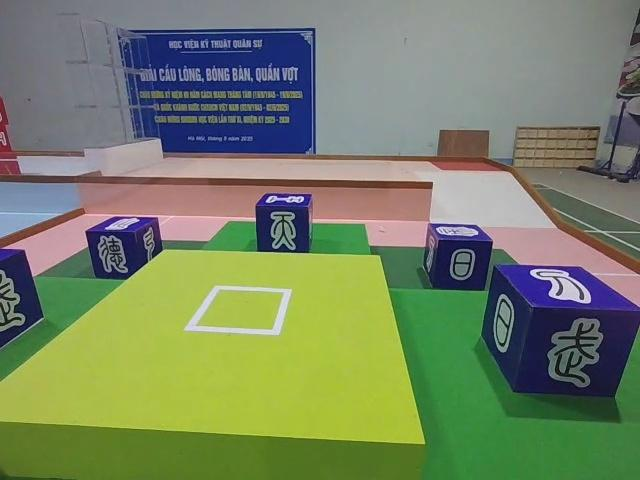R2 Fake Blue: (484, 266, 640, 400), (87, 218, 166, 282), (0, 252, 44, 366), (422, 225, 492, 293), (255, 193, 314, 255)
